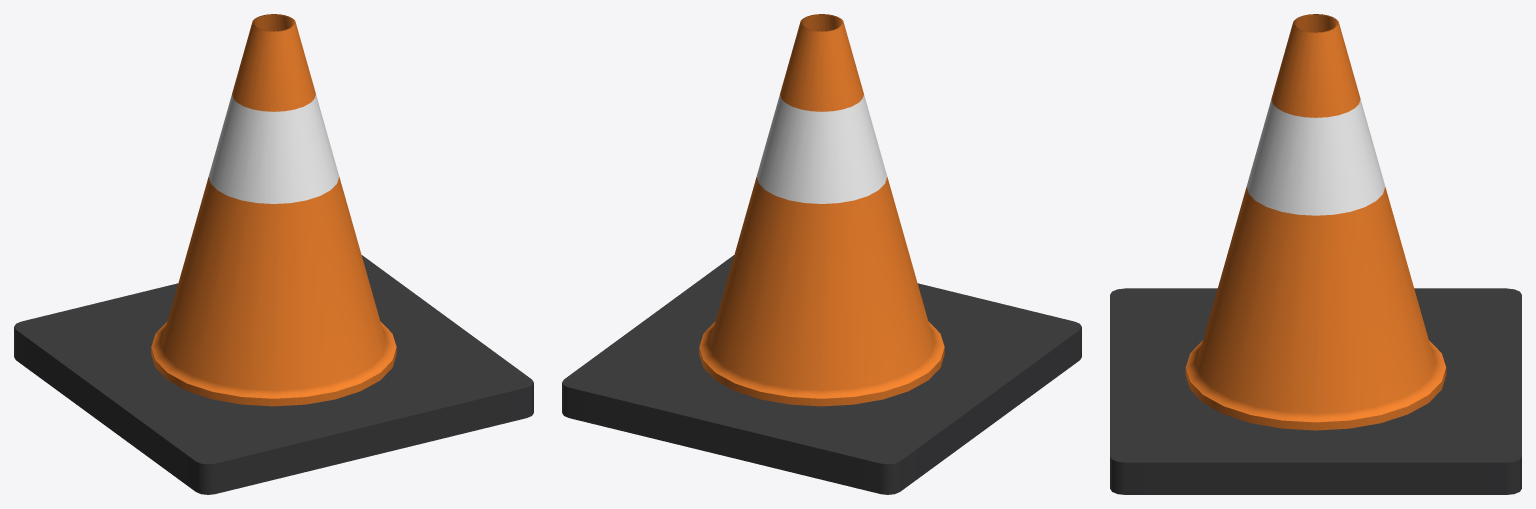
File: Traffic Cone 1.fbx
3 renders of one model, left to right at view 1: azimuth 30°, elevation 25°; view 2: azimuth 150°, elevation 25°; view 3: azimuth 270°, elevation 25°, orthographic. The views are drawn at different scales.
Visible parts, largest first — view 1: Traffic_Cone; view 2: Traffic_Cone; view 3: Traffic_Cone.
Part boxes in pixels (bbox=[...]): Traffic_Cone: bbox=[14, 14, 533, 494]; Traffic_Cone: bbox=[562, 14, 1081, 494]; Traffic_Cone: bbox=[1110, 14, 1521, 494].
Bounding box in the file's own units: 50.55 × 52.01 × 50.55.
